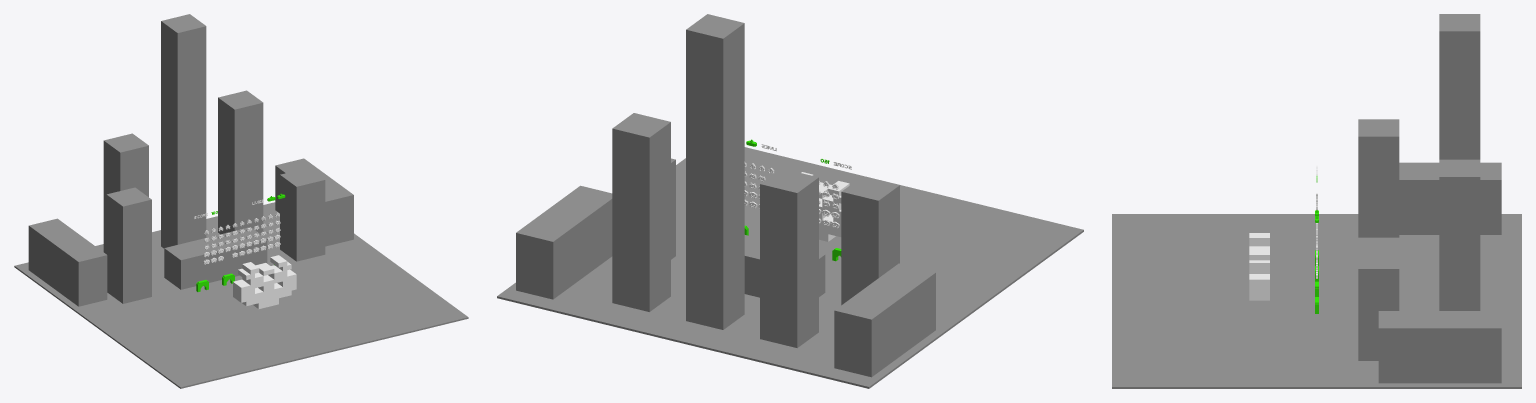
3 renders of one model, left to right at view 1: azimuth 30°, elevation 25°; view 2: azimuth 150°, elevation 25°; view 3: azimuth 270°, elevation 25°, orthographic. The views are drawn at different scales.
Visible parts, largest first — view 1: Building002, Floor, Invade014_03 - Default_0; view 2: Building002, Floor, Invade014_03 - Default_0; view 3: Floor, Building002, Invade014_03 - Default_0.
Boxes of the visible parts, left/top/right/bottom form: Building002: left=28, top=14, right=353, bottom=306; Floor: left=14, top=202, right=468, bottom=388; Invade014_03 - Default_0: left=233, top=255, right=296, bottom=308; Building002: left=516, top=14, right=935, bottom=377; Floor: left=497, top=147, right=1083, bottom=388; Invade014_03 - Default_0: left=801, top=172, right=849, bottom=241; Floor: left=1112, top=214, right=1521, bottom=388; Building002: left=1358, top=14, right=1501, bottom=383; Invade014_03 - Default_0: left=1249, top=233, right=1269, bottom=300.
Size of the model in its own units: 200 by 151 by 200.
5 materials, 3 textured.
